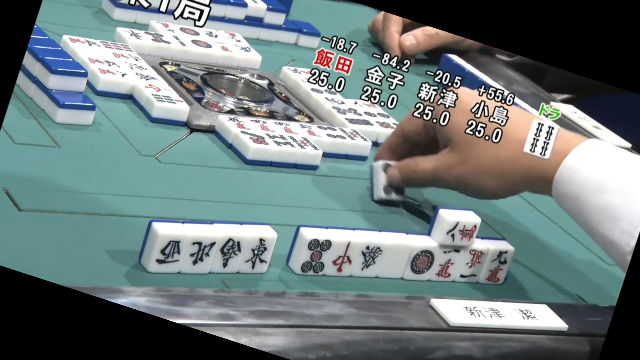Tehai: (130, 217, 516, 282)
